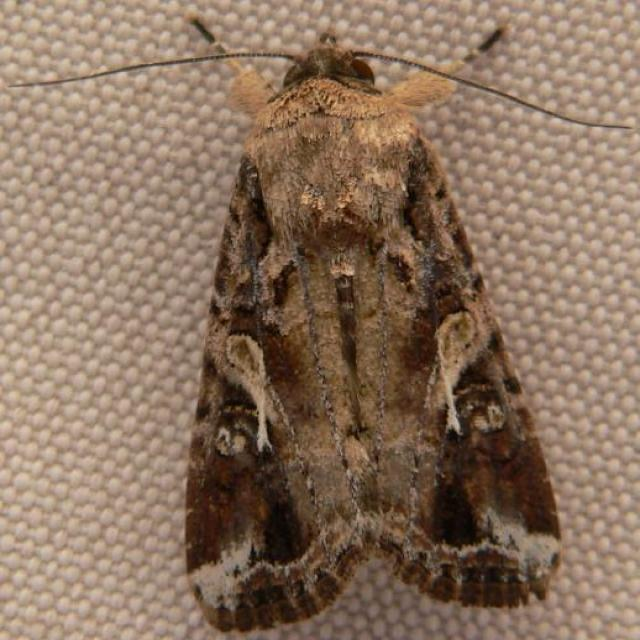BeetArmyWorm-Adult-: (106, 4, 586, 628)
